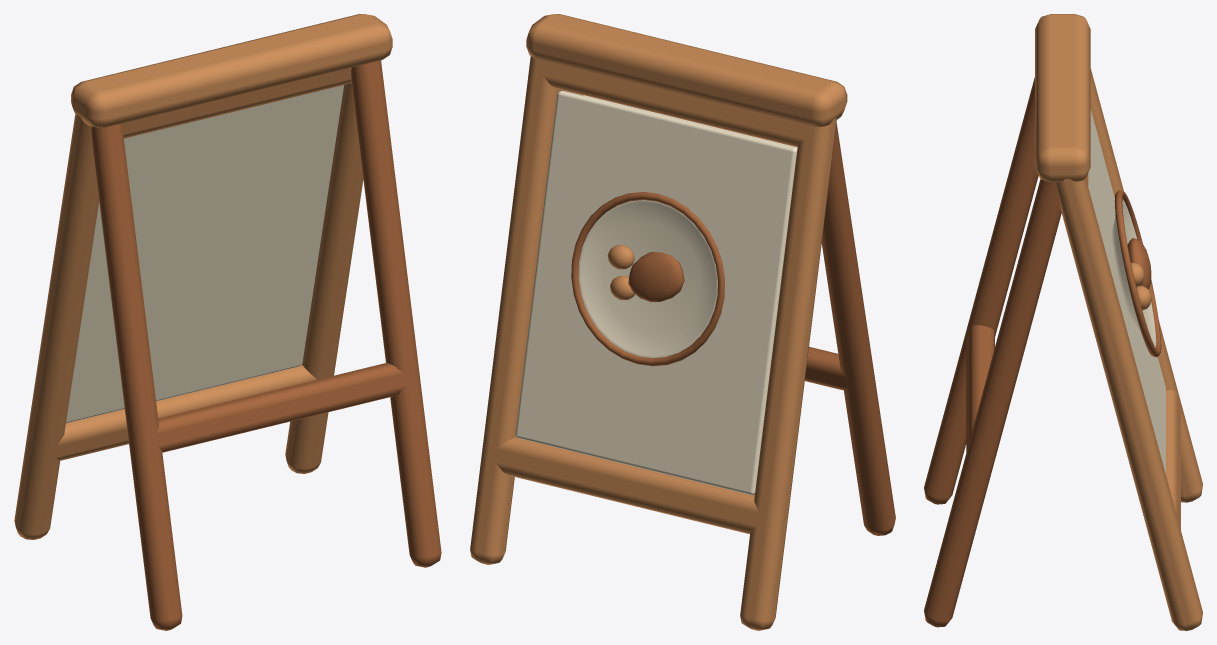
Rendered from PROP_MENU_BOARD.glb.
The picture shows the model from 3 angles, left to right: view 1: azimuth 30°, elevation 25°; view 2: azimuth 150°, elevation 25°; view 3: azimuth 270°, elevation 25°; orthographic projection. The views are drawn at different scales.
Visible parts, largest first — view 1: panel, back_r, hinge_cap, back_l, rail_r, rail_l, back_cross, cross_bottom, cross_top; view 2: panel, rail_r, hinge_cap, rail_l, food_plate, back_r, cross_bottom, cross_top, plate_rim, food_meat, back_cross; view 3: rail_l, back_l, back_r, hinge_cap, panel, rail_r, back_cross, plate_rim, cross_bottom, food_plate, food_meat.
Part boxes in pixels (x1=…): panel: x1=66, y1=85, x2=343, y2=423; back_r: x1=91, y1=123, x2=182, y2=630; hinge_cap: x1=71, y1=14, x2=392, y2=127; back_l: x1=351, y1=60, x2=441, y2=567; rail_r: x1=14, y1=114, x2=98, y2=539; rail_l: x1=285, y1=60, x2=381, y2=473; back_cross: x1=155, y1=363, x2=405, y2=452; cross_bottom: x1=51, y1=365, x2=316, y2=460; cross_top: x1=122, y1=67, x2=351, y2=138; panel: x1=515, y1=90, x2=797, y2=495; rail_r: x1=740, y1=118, x2=836, y2=630; hinge_cap: x1=526, y1=14, x2=847, y2=127; rail_l: x1=470, y1=56, x2=562, y2=564; food_plate: x1=578, y1=200, x2=717, y2=358; back_r: x1=821, y1=123, x2=895, y2=535; cross_bottom: x1=491, y1=437, x2=759, y2=534; cross_top: x1=539, y1=61, x2=809, y2=147; plate_rim: x1=571, y1=192, x2=724, y2=366; food_meat: x1=628, y1=252, x2=684, y2=302; back_cross: x1=805, y1=346, x2=846, y2=390; rail_l: x1=1055, y1=178, x2=1202, y2=630; back_l: x1=924, y1=179, x2=1061, y2=627; back_r: x1=924, y1=77, x2=1038, y2=504; hinge_cap: x1=1035, y1=14, x2=1090, y2=182; panel: x1=1088, y1=109, x2=1165, y2=473; rail_r: x1=1090, y1=68, x2=1202, y2=502; back_cross: x1=966, y1=325, x2=994, y2=452; plate_rim: x1=1114, y1=190, x2=1161, y2=357; cross_bottom: x1=1166, y1=390, x2=1180, y2=531; food_plate: x1=1112, y1=199, x2=1156, y2=347; food_meat: x1=1127, y1=238, x2=1151, y2=289.
Bounding box in the file's own units: 2.6 × 4.05 × 2.11.
